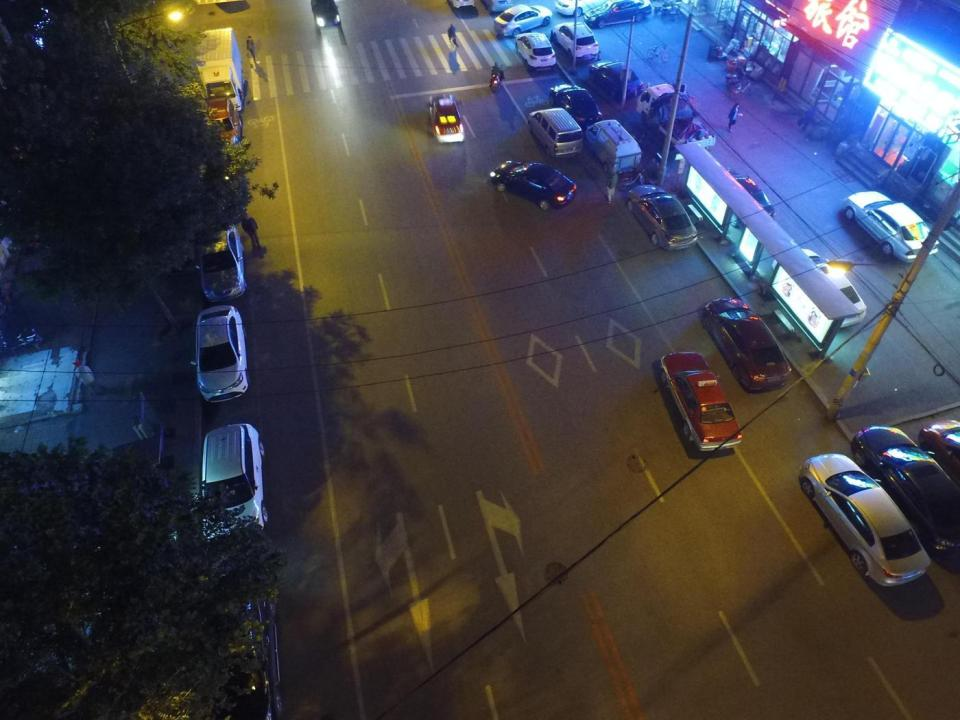car: (799, 452, 932, 588), (850, 426, 958, 554), (202, 573, 281, 719), (702, 296, 791, 394), (659, 351, 743, 454), (198, 422, 266, 542), (846, 182, 940, 262), (786, 249, 866, 328), (192, 304, 250, 402), (626, 185, 698, 252), (486, 159, 576, 210), (197, 222, 247, 303), (710, 167, 775, 227), (915, 410, 956, 482), (528, 108, 584, 158), (198, 98, 241, 156), (549, 84, 602, 131), (589, 60, 644, 100), (424, 93, 466, 144), (554, 20, 597, 64), (512, 32, 558, 72), (584, 1, 652, 27), (495, 5, 553, 35), (311, 0, 345, 32), (557, 0, 605, 16), (482, 0, 514, 13)
truck: (637, 84, 716, 155), (192, 27, 248, 112)
van: (587, 120, 641, 171)
